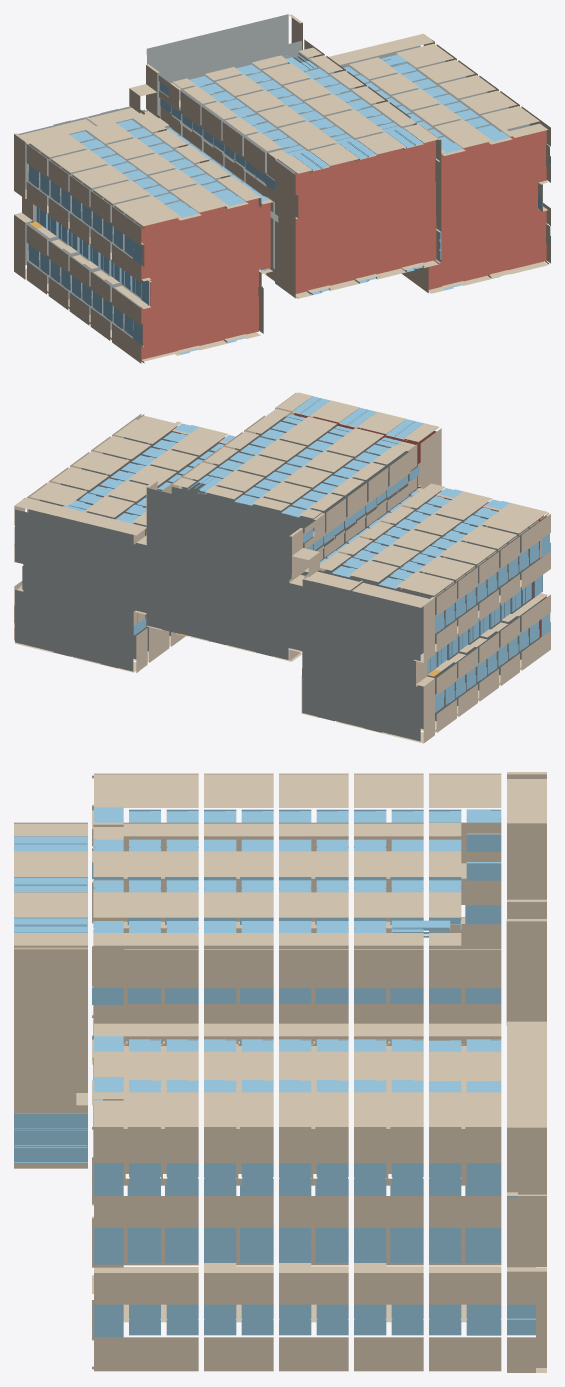
Rendered from model_cityjson_glengarry.glb.
3 renders of one model, top to bottom at view 1: azimuth 30°, elevation 25°; view 2: azimuth 150°, elevation 25°; view 3: azimuth 270°, elevation 25°, orthographic. The views are drawn at different scales.
Parts seen in each view (by area): view 1: WallSurface, RoofSurface, Window, GroundSurface; view 2: GroundSurface, WallSurface, Window, RoofSurface; view 3: WallSurface, Window.
Boxes of the visible parts, x1,y1,x2,y2 form: WallSurface: (14, 14, 550, 363); RoofSurface: (140, 130, 546, 359); Window: (28, 53, 550, 354); GroundSurface: (18, 14, 539, 338); GroundSurface: (14, 416, 540, 741); WallSurface: (14, 392, 550, 743); Window: (63, 396, 550, 712); RoofSurface: (171, 413, 546, 638); WallSurface: (14, 772, 546, 1372); Window: (14, 807, 535, 1337).
Bounding box in the file's own units: 63.89 × 28.2 × 40.72.
